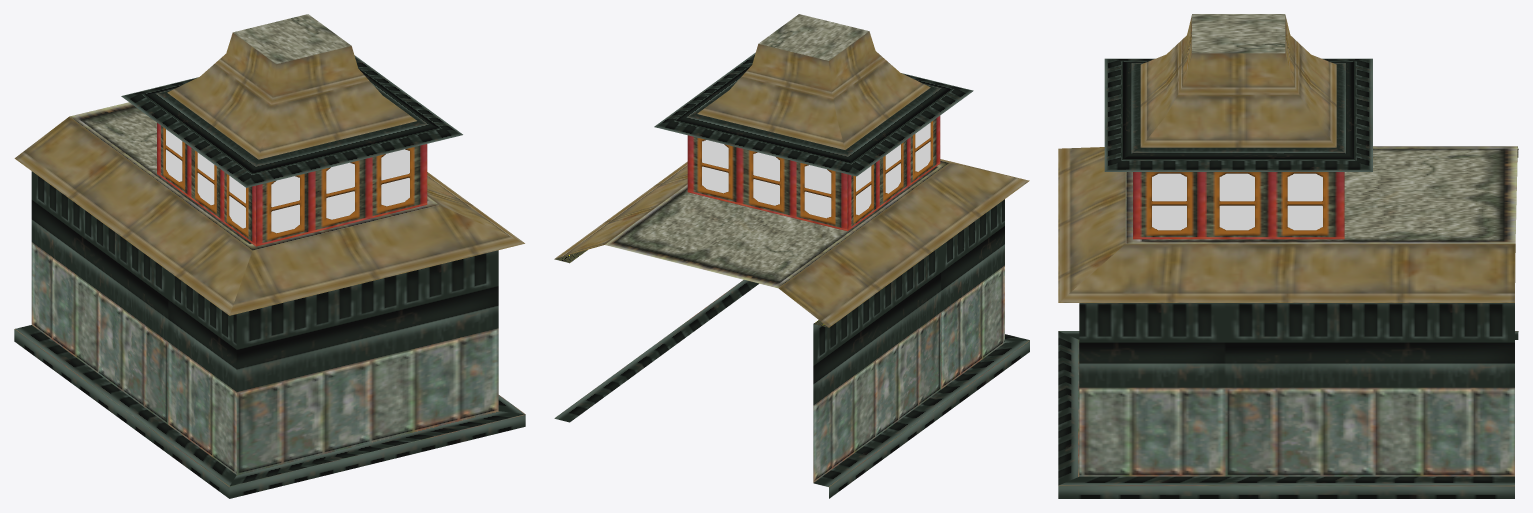
Rendered from l_palacetwr.glb.
3 views of the same model, side by side, from view 1: azimuth 30°, elevation 25°; view 2: azimuth 150°, elevation 25°; view 3: azimuth 270°, elevation 25° (orthographic). The views are drawn at different scales.
Parts seen in each view (by area): view 1: palace_twr, Litwin_palace_twr; view 2: palace_twr, Litwin_palace_twr; view 3: palace_twr, Litwin_palace_twr.
Boxes of the visible parts, left/top/right/bottom form: palace_twr: left=14, top=14, right=525, bottom=498; Litwin_palace_twr: left=166, top=129, right=409, bottom=233; palace_twr: left=554, top=14, right=1029, bottom=498; Litwin_palace_twr: left=702, top=123, right=930, bottom=218; palace_twr: left=1058, top=14, right=1518, bottom=498; Litwin_palace_twr: left=1152, top=173, right=1322, bottom=230.
Size of the model in its own units: 12.75 by 14.91 by 16.05.
5 materials, 5 textured.
